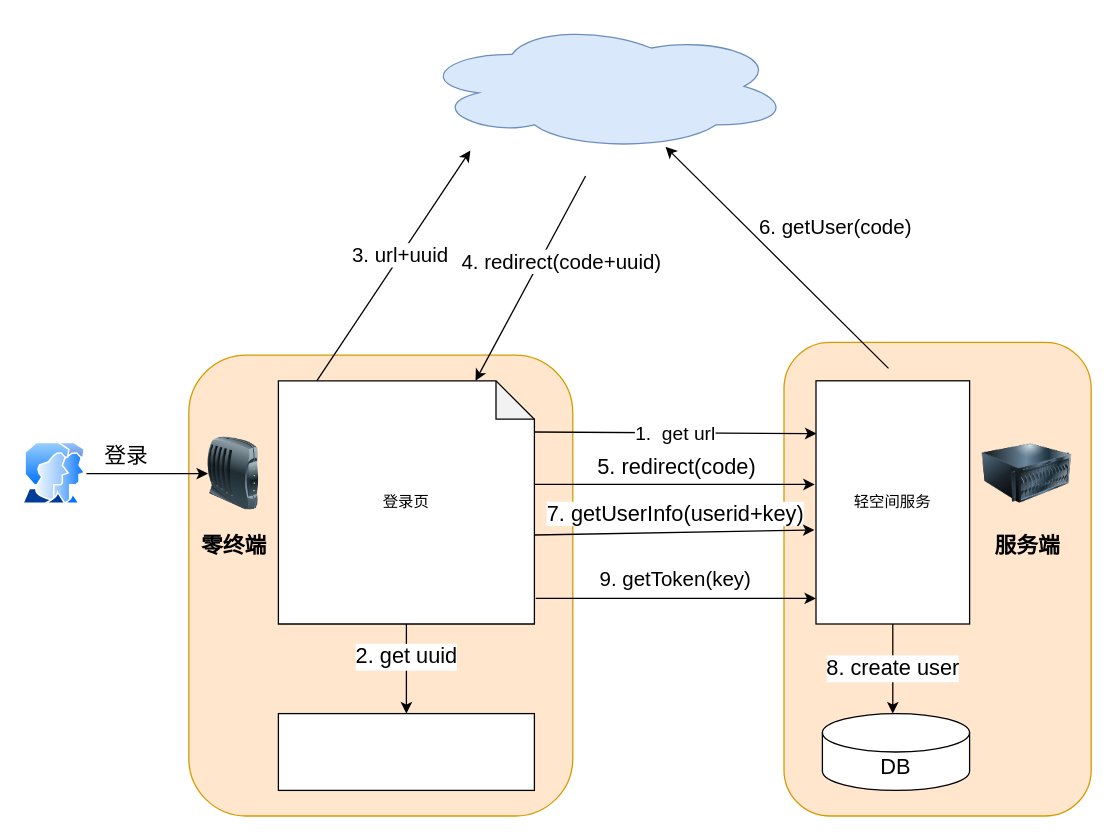
Some shapes in this 1114 by 838 pixel diagram are drawn without their labels. Here are the shapes that lost their labels. From the top down, the centre of each, then its label:
point (604, 85): 钉钉服务
point (405, 751): 登录服务
